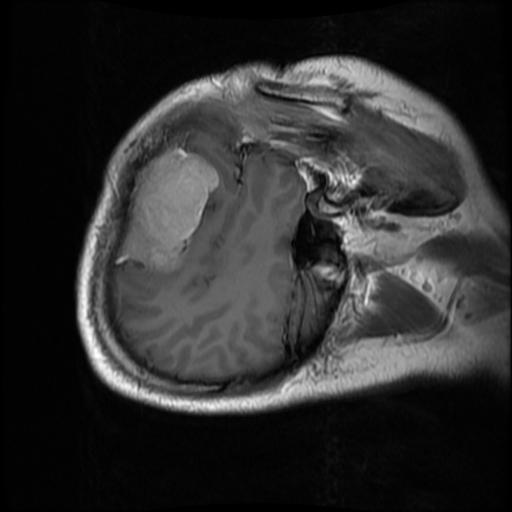meningioma: (121, 147, 220, 271)
